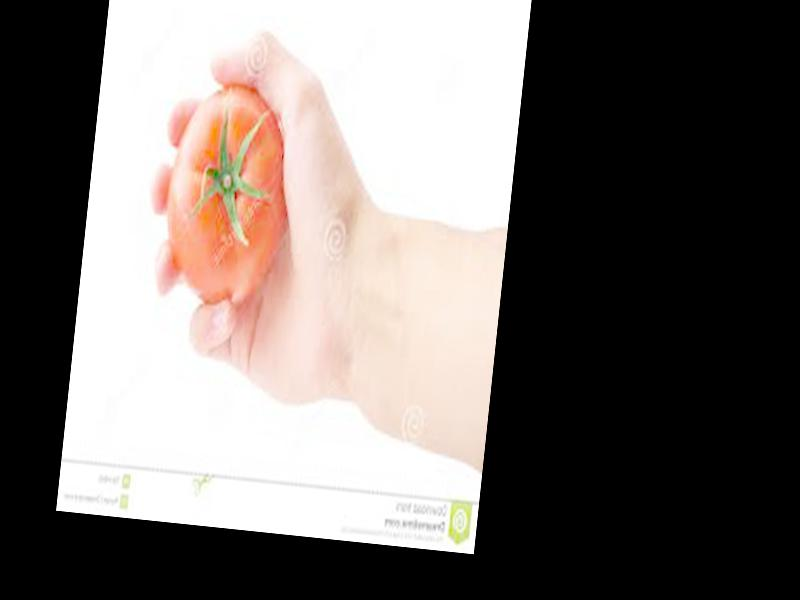Tomato: (157, 83, 295, 311)
